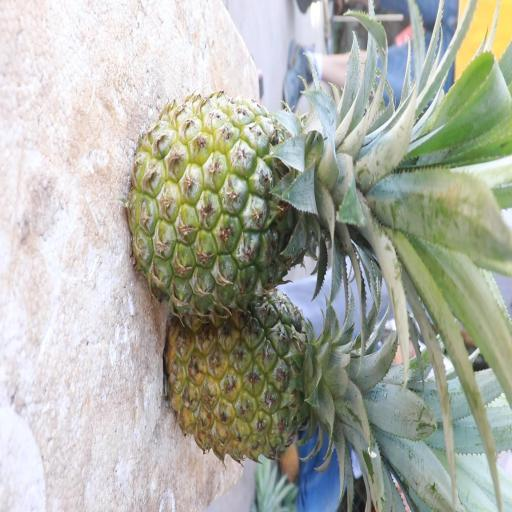------------------------------: (136, 89, 362, 303)
Pineapple - v8 v1: (168, 300, 364, 460)
